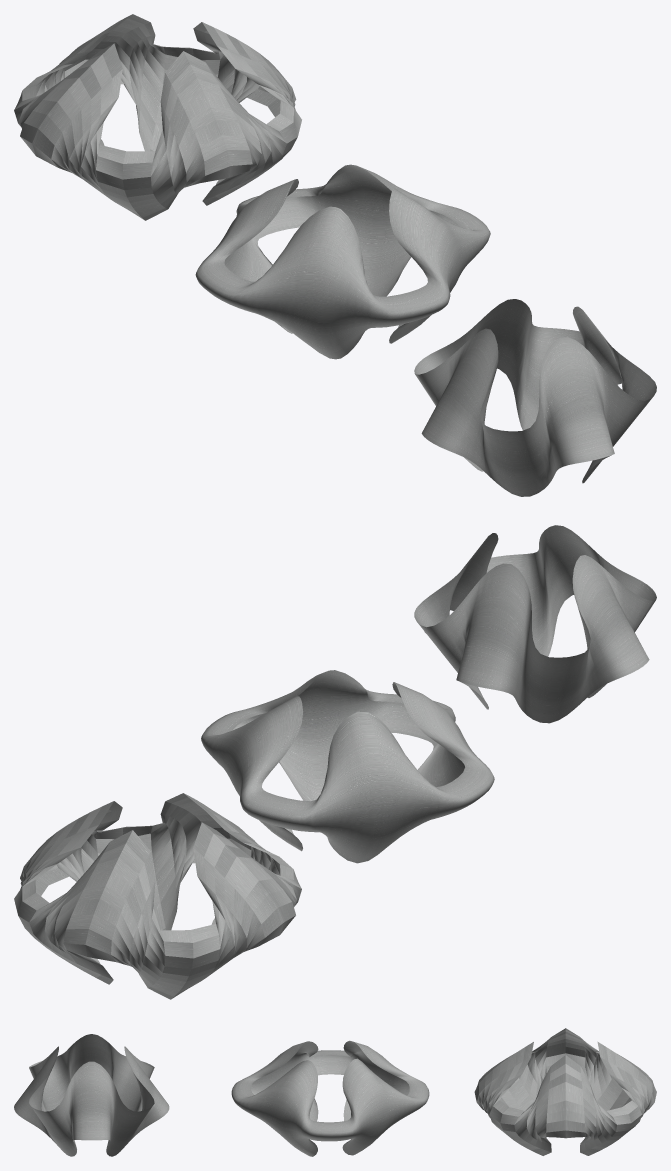
3 renders of one model, top to bottom at view 1: azimuth 30°, elevation 25°; view 2: azimuth 150°, elevation 25°; view 3: azimuth 270°, elevation 25°, orthographic. The views are drawn at different scales.
Visible parts, largest first — view 1: Object_2_Bamboo_0, Object_1_Bamboo_0, Object_6_Bamboo_0, Object_3_Bamboo_0, Object_5_Bamboo_0, Object_4_Bamboo_0; view 2: Object_2_Bamboo_0, Object_1_Bamboo_0, Object_4_Bamboo_0, Object_5_Bamboo_0, Object_3_Bamboo_0, Object_6_Bamboo_0; view 3: Object_2_Bamboo_0, Object_1_Bamboo_0, Object_5_Bamboo_0, Object_3_Bamboo_0, Object_4_Bamboo_0, Object_6_Bamboo_0.
Boxes of the visible parts, x1,y1,x2,y2 form: Object_2_Bamboo_0: (195, 164, 490, 359); Object_1_Bamboo_0: (414, 299, 656, 496); Object_6_Bamboo_0: (32, 43, 230, 220); Object_3_Bamboo_0: (183, 22, 301, 205); Object_5_Bamboo_0: (85, 14, 277, 151); Object_4_Bamboo_0: (14, 14, 131, 155); Object_2_Bamboo_0: (201, 670, 494, 863); Object_1_Bamboo_0: (414, 525, 656, 723); Object_4_Bamboo_0: (85, 822, 283, 999); Object_5_Bamboo_0: (14, 801, 132, 984); Object_3_Bamboo_0: (38, 793, 230, 930); Object_6_Bamboo_0: (184, 793, 301, 934); Object_2_Bamboo_0: (231, 1040, 429, 1156); Object_1_Bamboo_0: (14, 1034, 169, 1156); Object_5_Bamboo_0: (565, 1041, 656, 1155); Object_3_Bamboo_0: (474, 1042, 565, 1155); Object_4_Bamboo_0: (565, 1028, 654, 1110); Object_6_Bamboo_0: (476, 1028, 565, 1110).
Bounding box in the file's own units: 8.34 × 4.91 × 27.13.
1 material, 1 textured.
